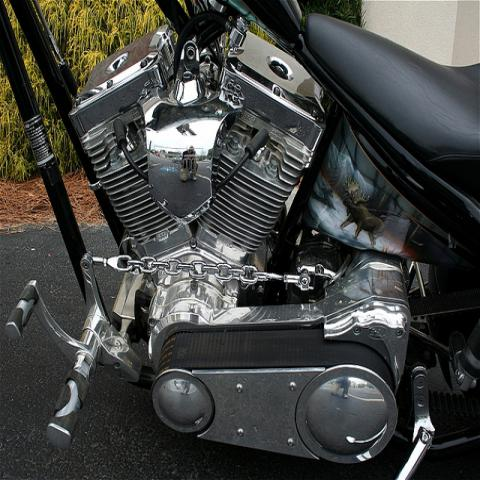motorcycle: (0, 2, 478, 473)
